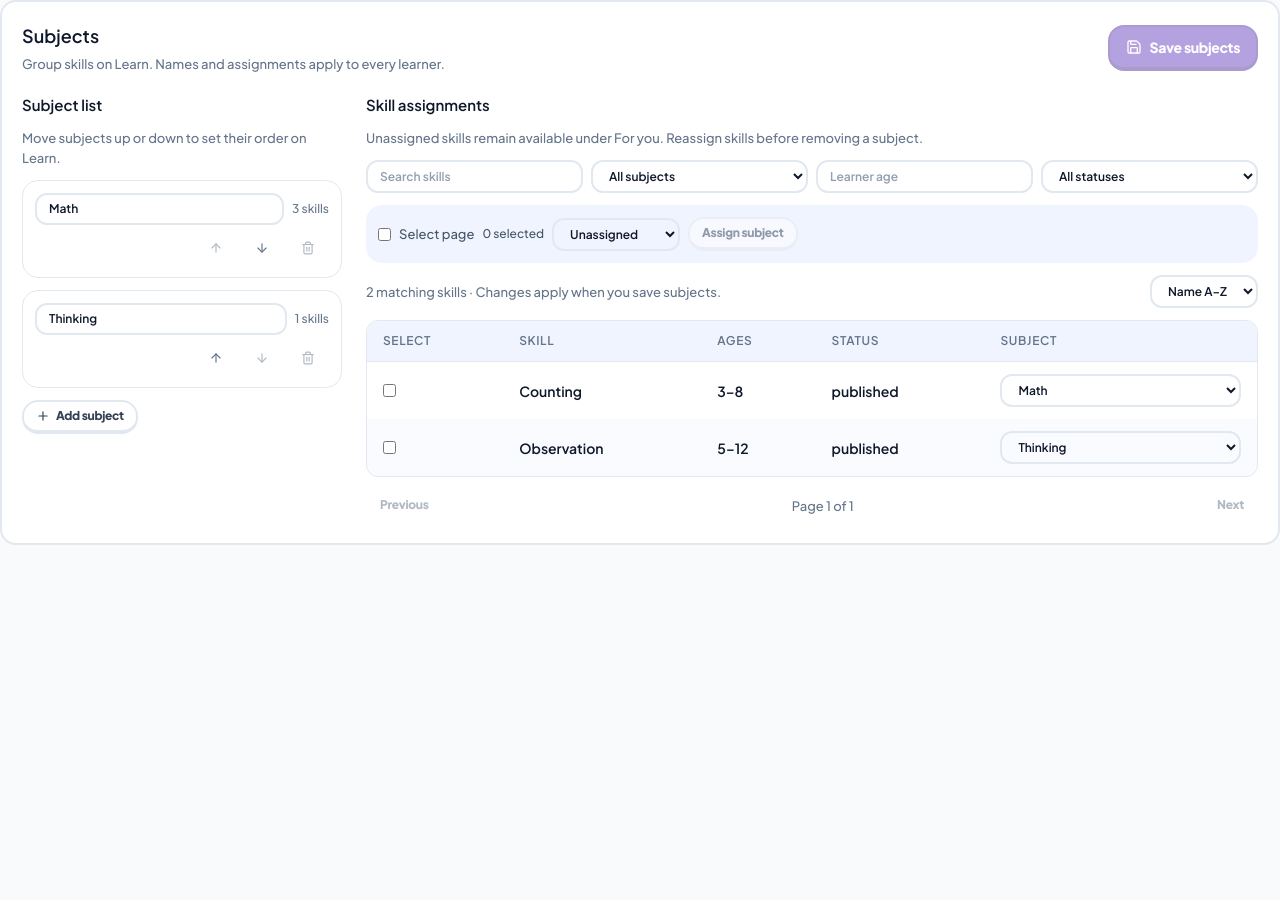
Test: saves a subject rename and skill assignment and updates the offline lookup immediately
Replace the text in the field named "Subject 1 name" with "Mathematics". click: point(160, 209)
box: [35, 193, 284, 225]
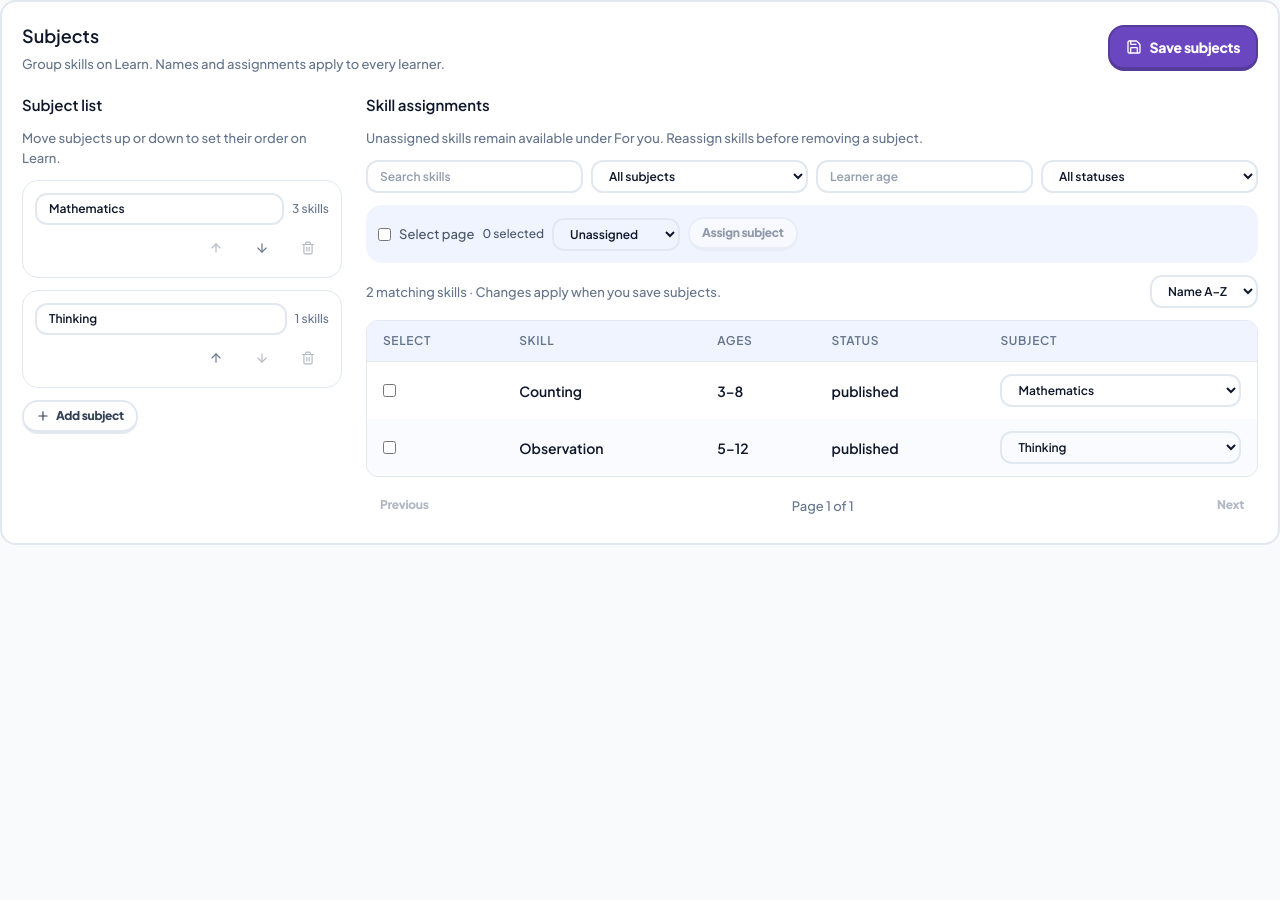
Select "Mathematics" in the dropdown named "Subject for Observation". click: point(1121, 448)
box: [1000, 431, 1241, 464]
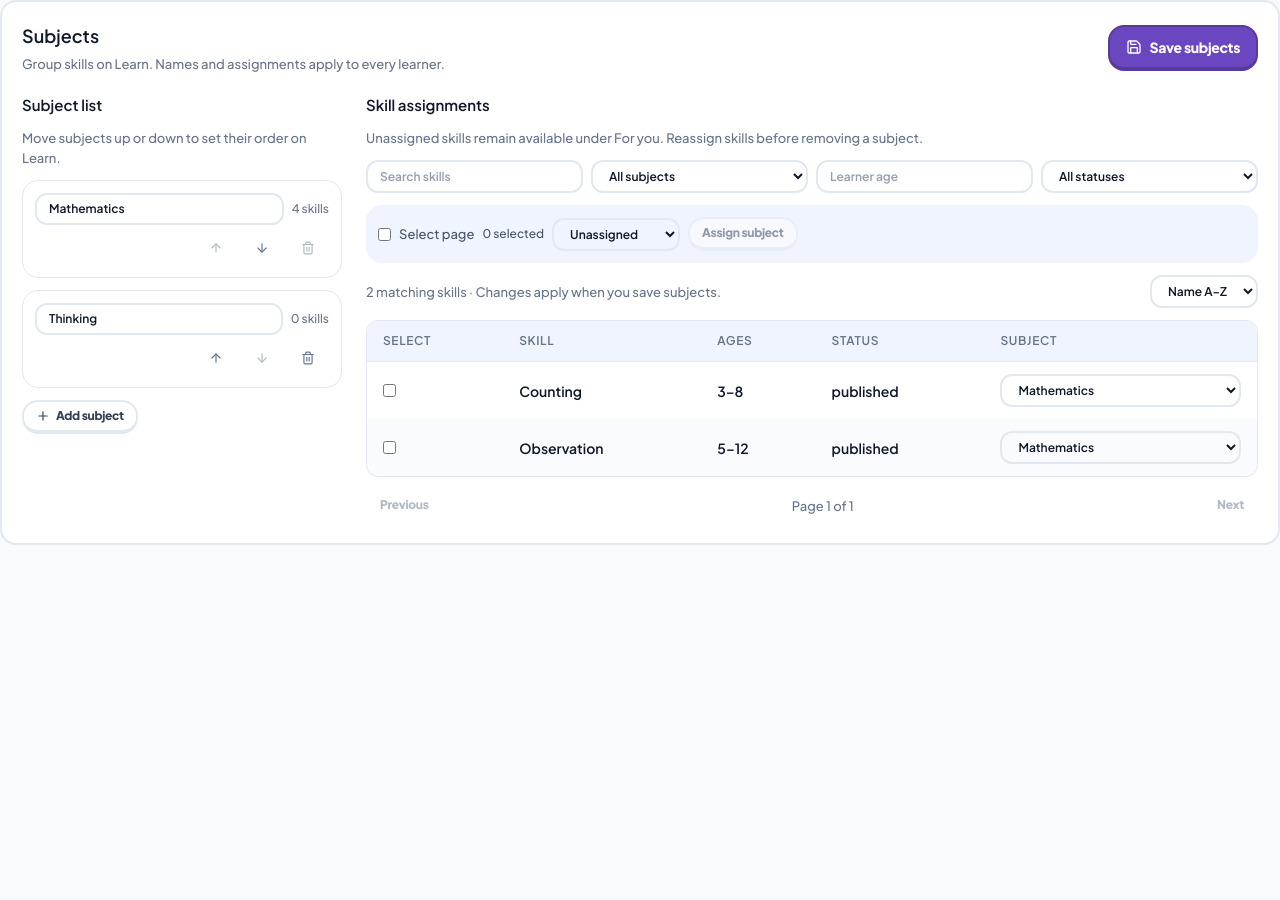
Click the button "Save subjects". click: point(1183, 48)
box: [1108, 25, 1258, 71]
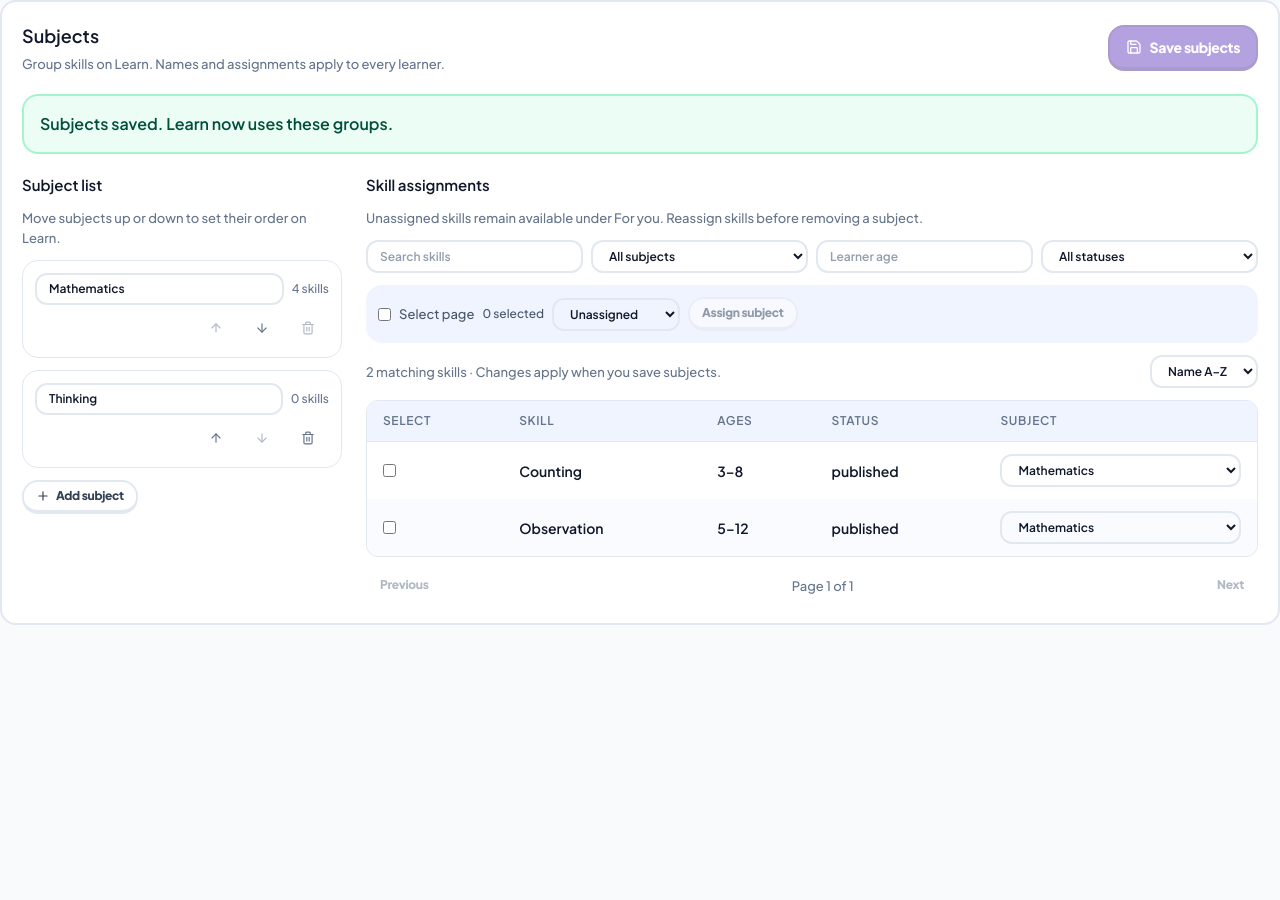
Expected: the text "Subjects saved. Learn now uses these groups." is shown, [22, 94, 1258, 154]
